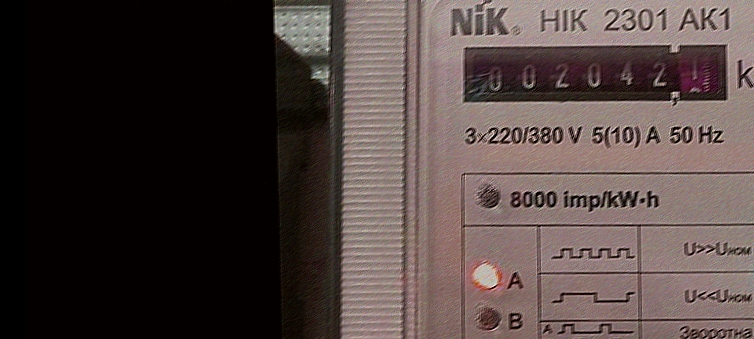0: (519, 61, 537, 93), (485, 63, 504, 93), (584, 60, 603, 90)
1: (686, 53, 701, 84)
2: (552, 61, 571, 91), (650, 59, 668, 89)
4: (617, 57, 636, 89)
screen: (458, 38, 734, 116)
